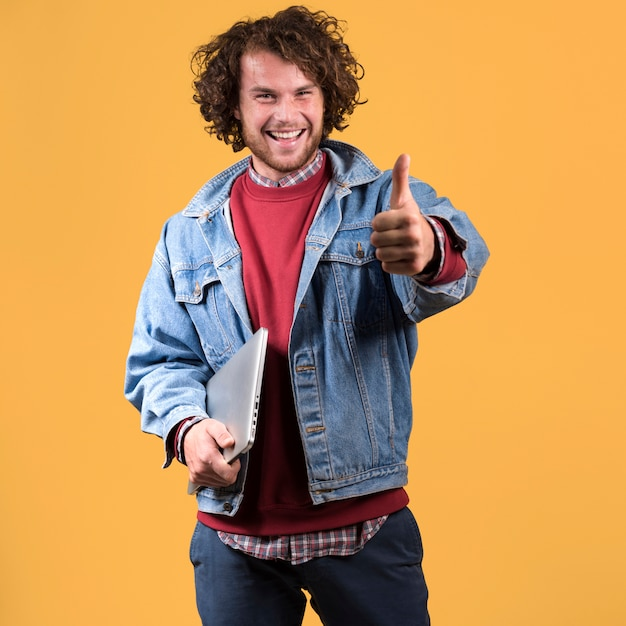teen: (188, 4, 378, 227)
